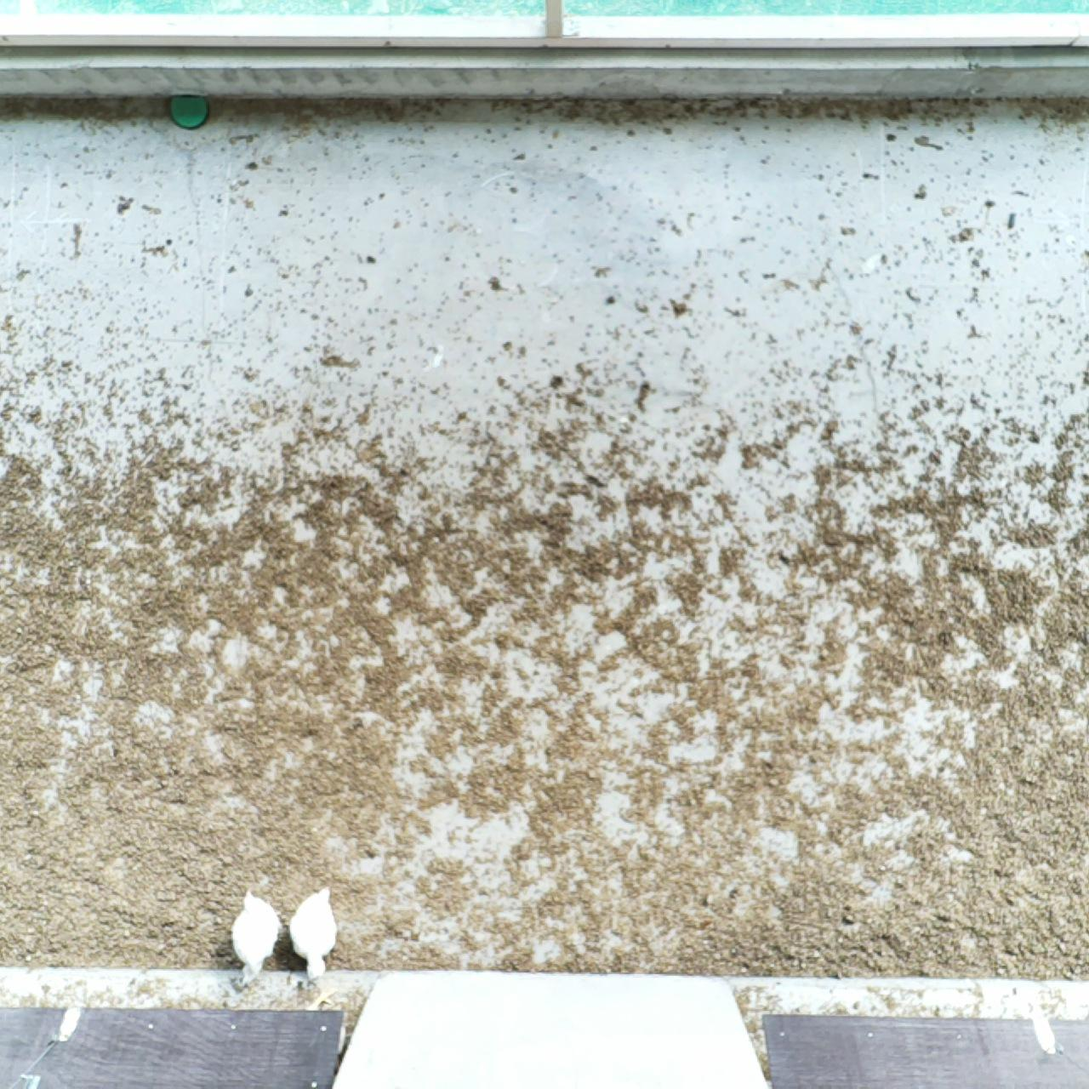chicken: (224, 887, 284, 988), (288, 885, 338, 982)
